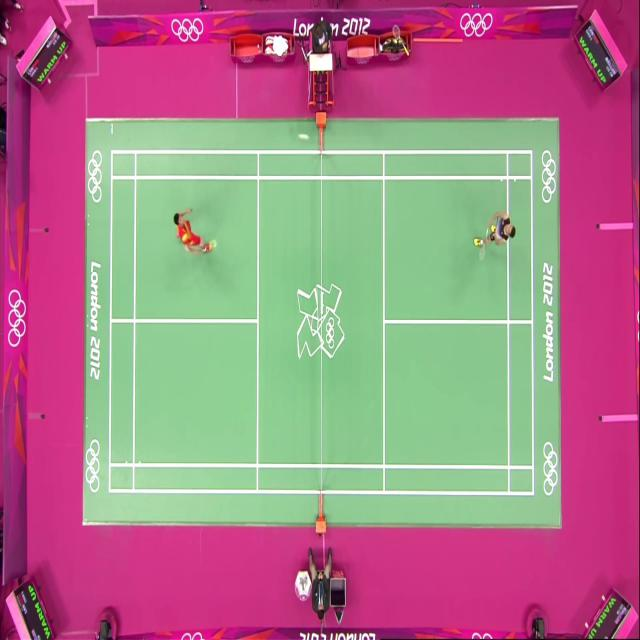Net: (312, 115, 332, 542)
Player1: (470, 186, 520, 274)
Player2: (180, 183, 226, 281)
